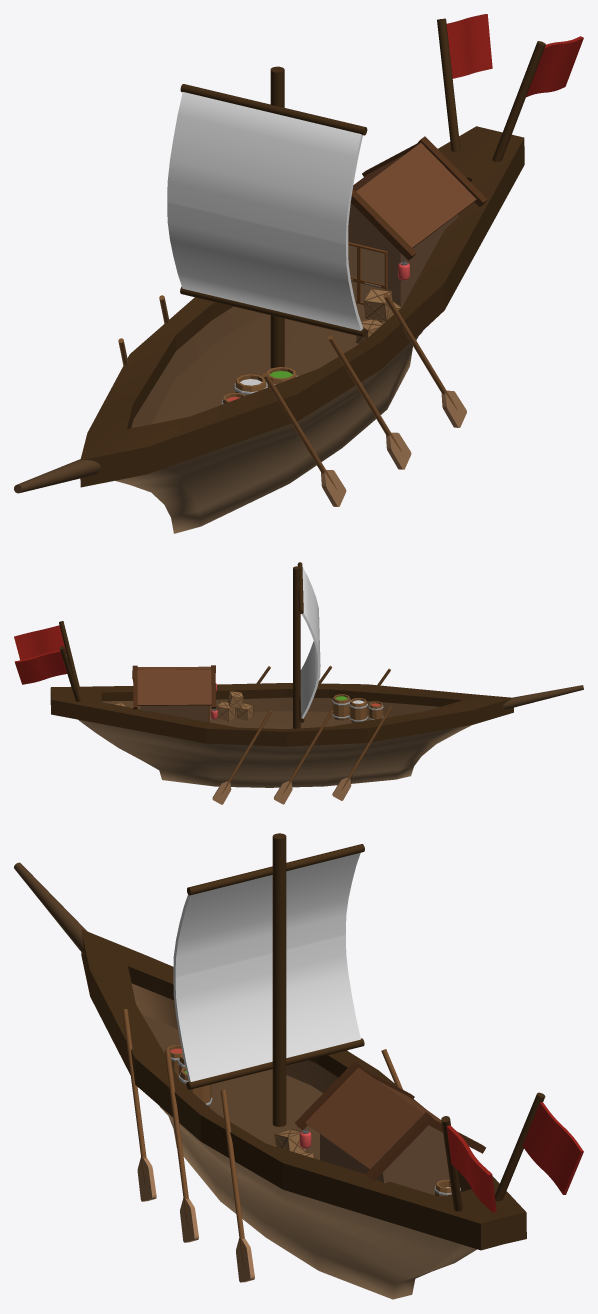
File: Ship_Forest.fbx
3 renders of one model, top to bottom at view 1: azimuth 30°, elevation 25°; view 2: azimuth 150°, elevation 25°; view 3: azimuth 270°, elevation 25°, orthographic. The views are drawn at different scales.
Parts seen in each view (by area): view 1: Cube, Ship_Frame_001, Ship_Frame, Ship_Frame_002, Ship_Roof2, Ship_Frame_003, Ship_House, Plane, Plane_001, Sail_Stick_Bottom_001, Ship_Main_Stick, Flag_Stick1 (+9 smaller); view 2: Ship_Frame_001, Ship_Frame, Ship_Roof1, Cube, Ship_Frame_003, Ship_Frame_002, Ship_Main_Stick, Plane, Plane_001, Ship_House, Cylinder_006, Barrel_Red_005 (+2 smaller); view 3: Cube, Ship_Frame_001, Ship_Frame, Ship_Roof2, Ship_Frame_002, Ship_Main_Stick, Ship_House, Plane, Ship_Frame_003, Plane_001, Sail_Stick_Bottom_001, Cylinder_006 (+11 smaller).
Part boxes in pixels (x1,y1,x2,y2): Cube: (167,92,363,330); Ship_Frame_001: (80,126,524,487); Ship_Frame: (115,331,422,533); Ship_Frame_002: (151,303,367,424); Ship_Roof2: (356,143,476,248); Ship_Frame_003: (131,306,261,428); Ship_House: (348,203,458,306); Plane: (446,14,492,78); Plane_001: (526,36,583,97); Sail_Stick_Bottom_001: (180,84,367,135); Ship_Main_Stick: (270,66,284,368); Flag_Stick1: (437,18,460,152); Ship_Frame_001: (50,683,513,746); Ship_Frame: (78,719,471,787); Ship_Roof1: (137,669,211,705); Cube: (300,567,320,718); Ship_Frame_003: (102,697,439,716); Ship_Frame_002: (210,711,389,728); Ship_Main_Stick: (293,566,300,728); Plane: (14,650,67,684); Plane_001: (14,625,66,660); Ship_House: (140,705,208,721); Cylinder_006: (502,685,583,708); Barrel_Red_005: (332,694,350,720); Cube: (173,853,360,1081); Ship_Frame_001: (81,929,526,1250); Ship_Frame: (159,1106,476,1299); Ship_Roof2: (305,1067,423,1169); Ship_Frame_002: (142,1014,322,1159); Ship_Main_Stick: (272,833,286,1126); Ship_House: (320,1125,449,1195); Plane: (522,1102,583,1194); Ship_Frame_003: (131,983,462,1191); Plane_001: (446,1125,496,1212); Sail_Stick_Bottom_001: (187,844,364,895); Cylinder_006: (14,862,87,954).
Bounding box in the file's own units: 274 × 125 × 172.
